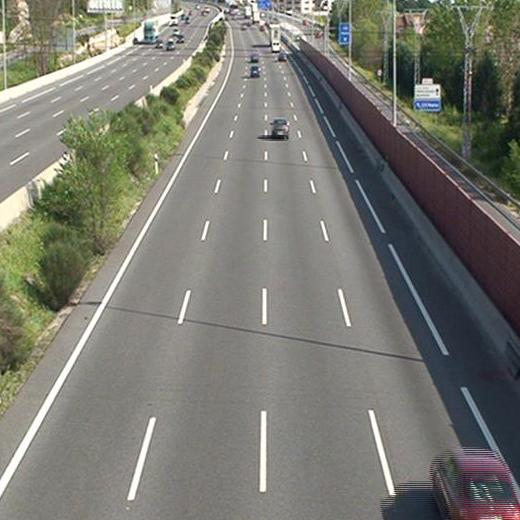car: (432, 451, 520, 519), (271, 119, 289, 138), (250, 66, 260, 76), (249, 53, 258, 62), (277, 52, 286, 60)
